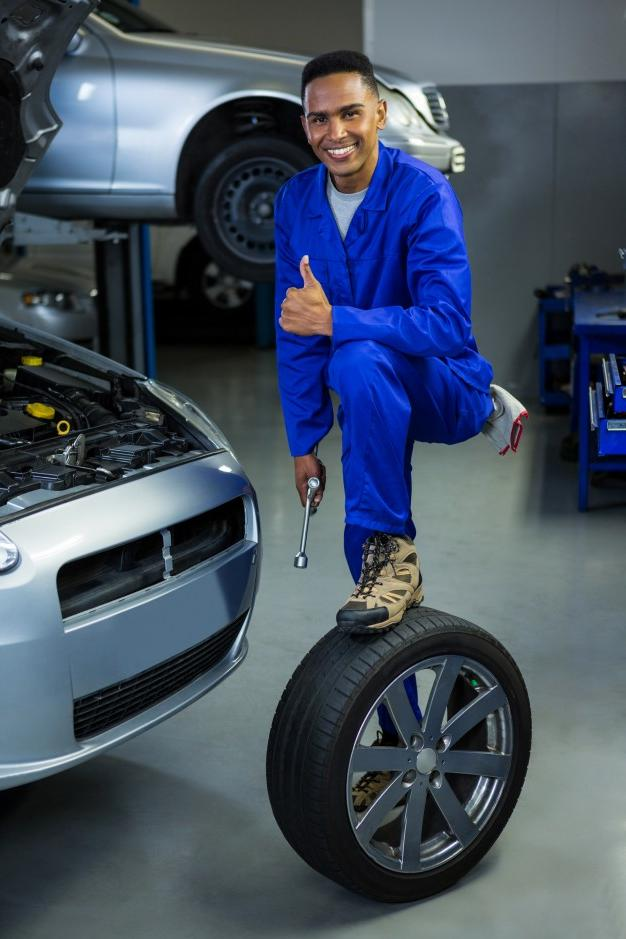thumbsup: (278, 254, 315, 336)
